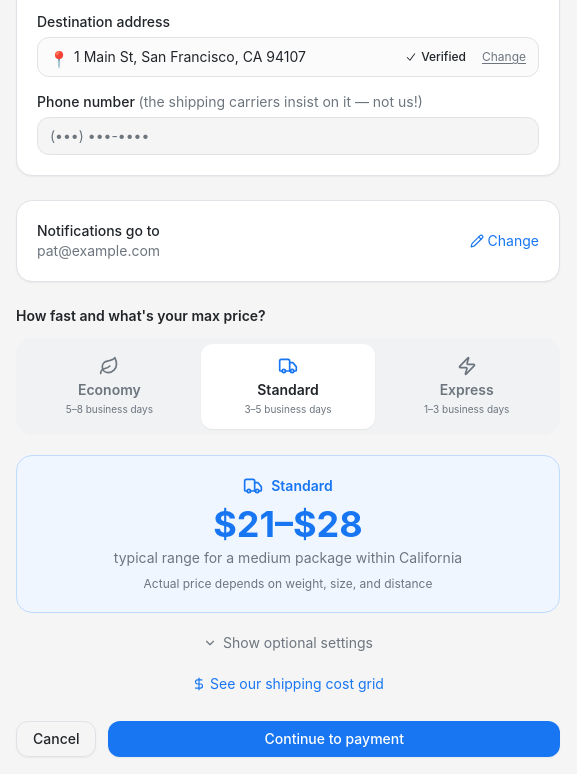
LinksEditor — phone gate (create flow) › does NOT advance to the payment step when the phone is missing
(page scrolled)
Click the button "Continue to payment": (334, 739) left=108, top=721, right=560, bottom=757
(page scrolled)
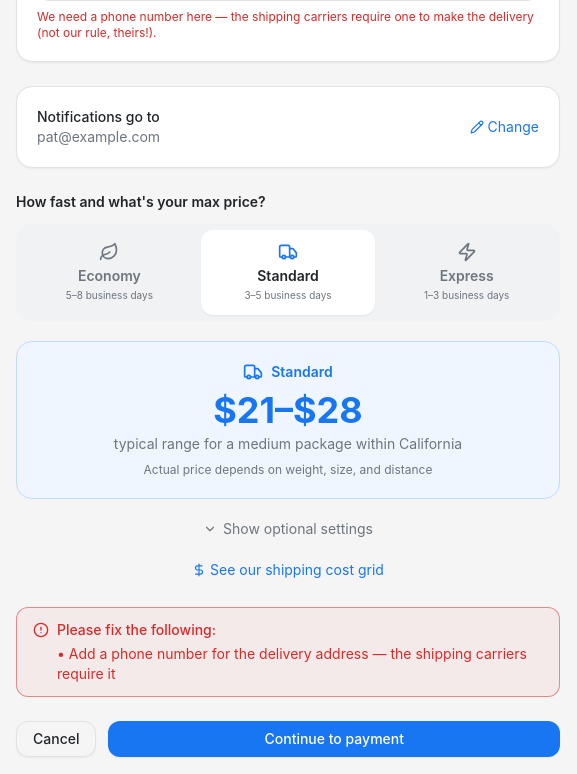
Expected: the list item "Add a phone number for the delivery address" is shown, left=57, top=645, right=527, bottom=682
